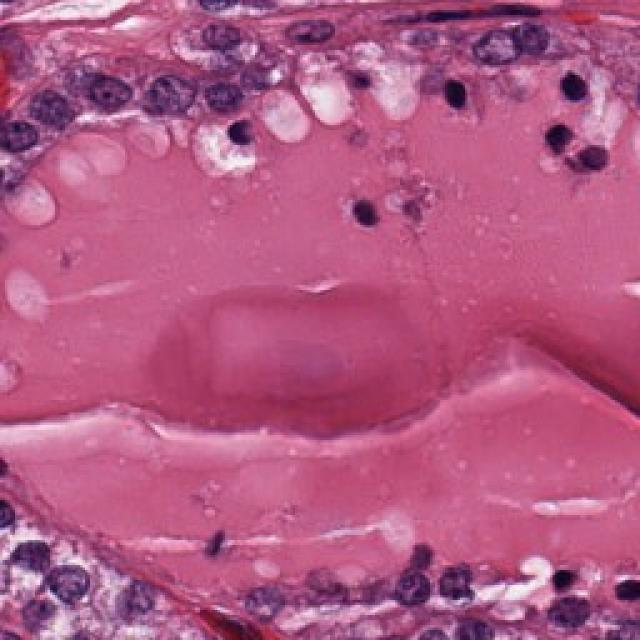normal: (175, 6, 262, 71), (0, 85, 55, 177), (470, 20, 548, 80), (110, 548, 162, 630), (388, 557, 450, 623), (82, 70, 138, 138)
